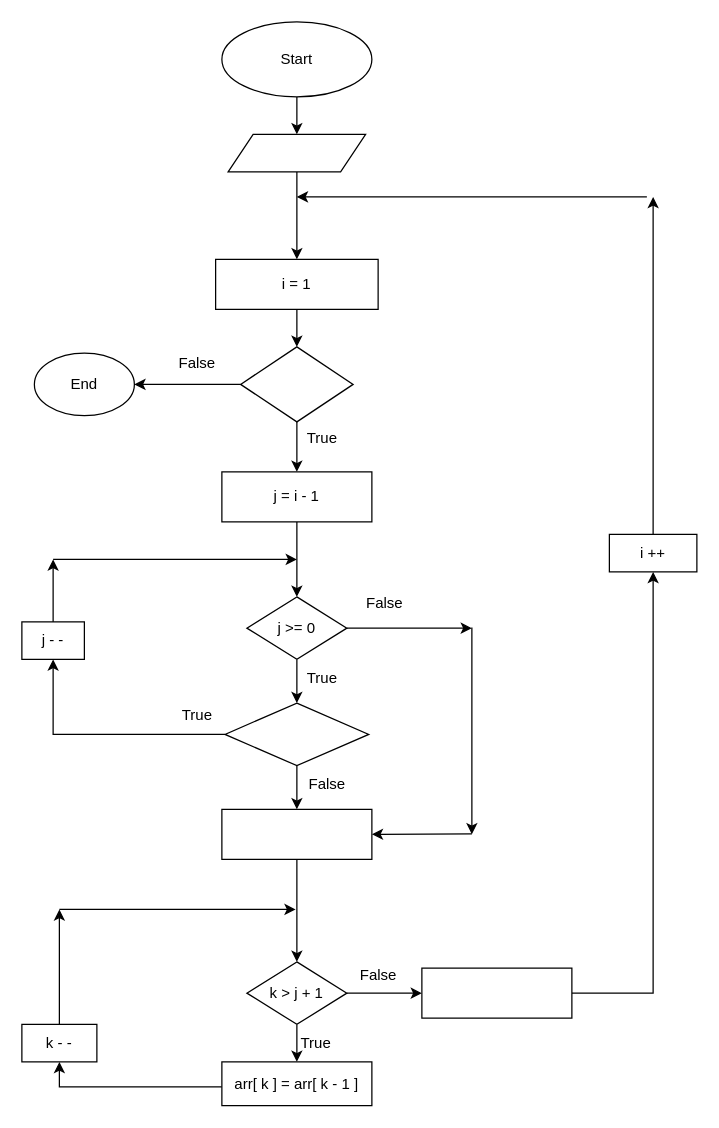
Image size: 719x1128. Some labels were removed from this diagram. The shapes that lost their labels are listed below. From the top down, each one's box as (x1, y1, x2, y2) in pixels, then its label:
(227, 133, 366, 172): int N
(239, 346, 353, 422): i < n
(224, 702, 369, 766): arr[ i ] < arr[ j ]
(221, 808, 372, 859): temp = arr[ i ] k = i
(421, 967, 572, 1018): arr[ k ] = temp
